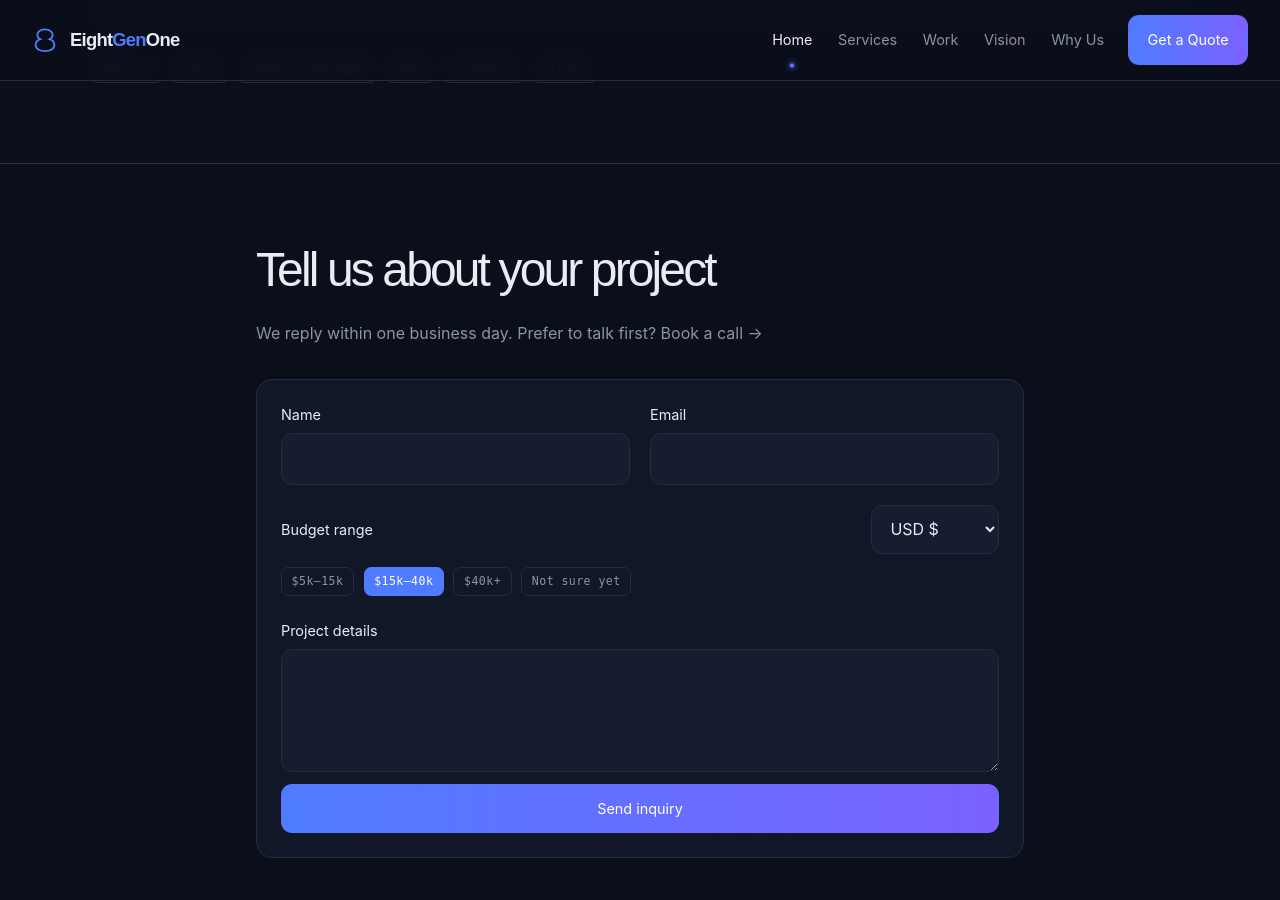
Test: EightGen1 landing page › submits the contact form and shows success state
(page scrolled)
Type "Ava Taylor" into the field labelled "Name". click: coordinates (456, 459)
box: [281, 433, 630, 485]
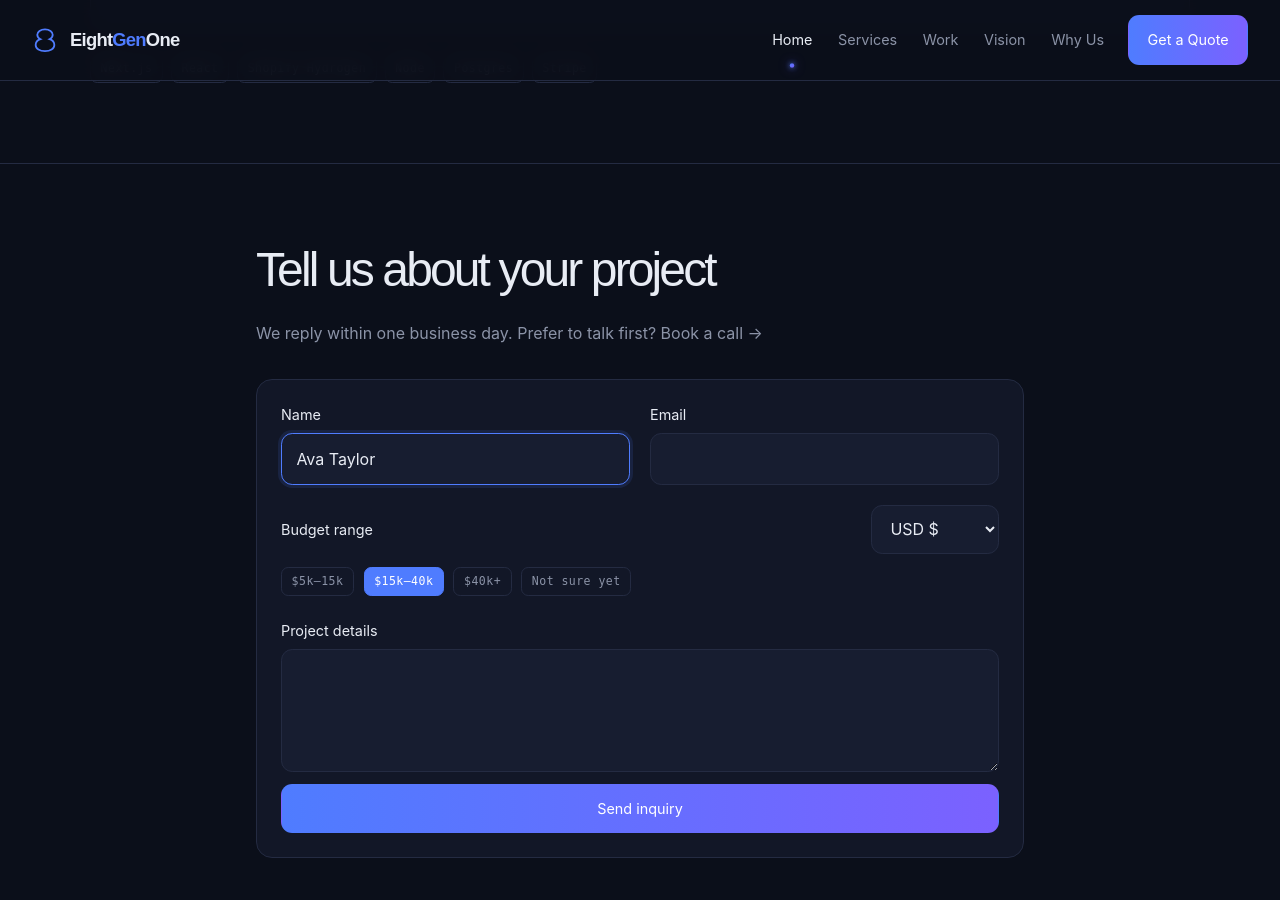
Type "ava@example.com" into the field labelled "Email". click: coordinates (824, 459)
box: [650, 433, 999, 485]
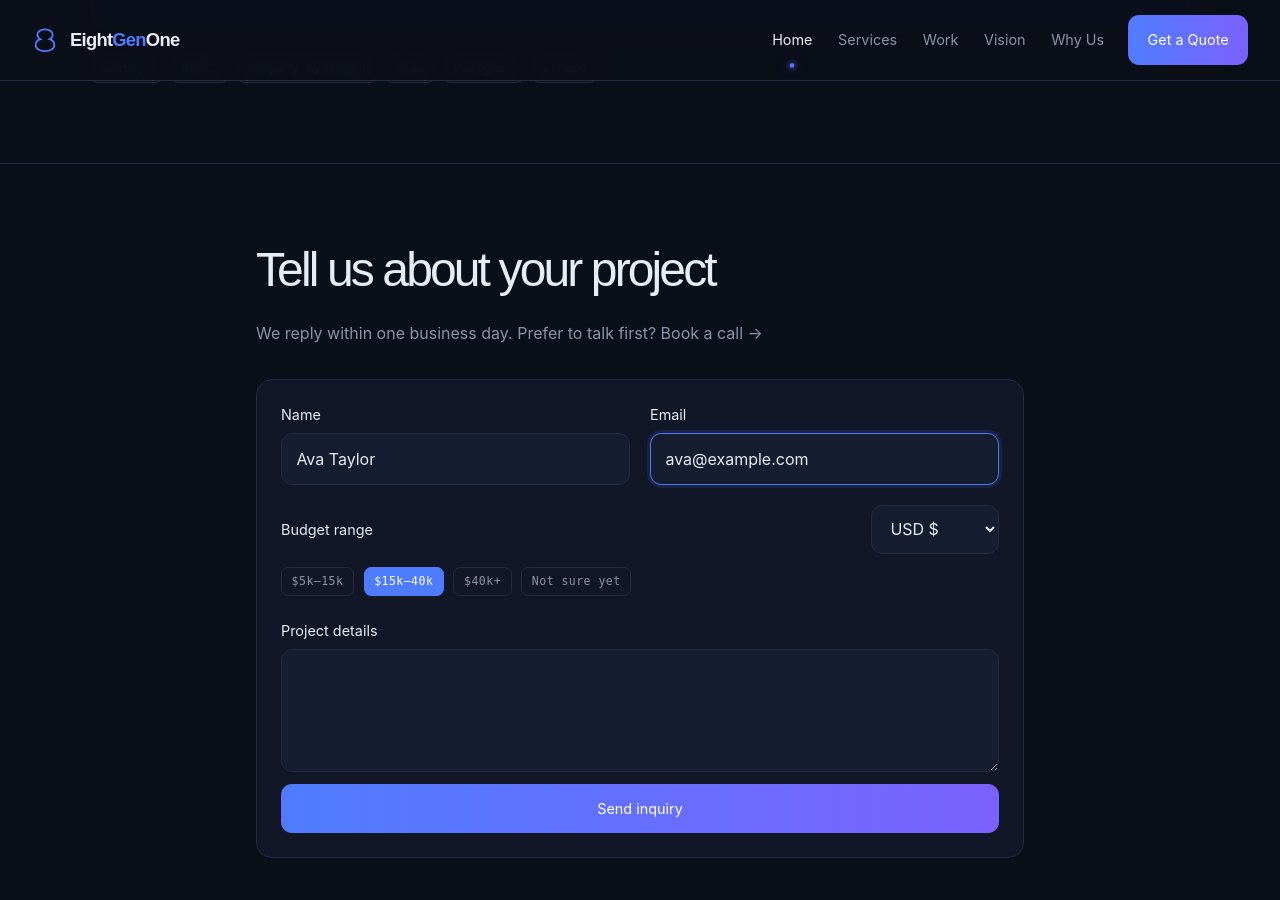
Type "Need a premium storefront for a new DTC brand." into the text box labelled "Project details". click: coordinates (640, 710)
box: [281, 648, 999, 772]
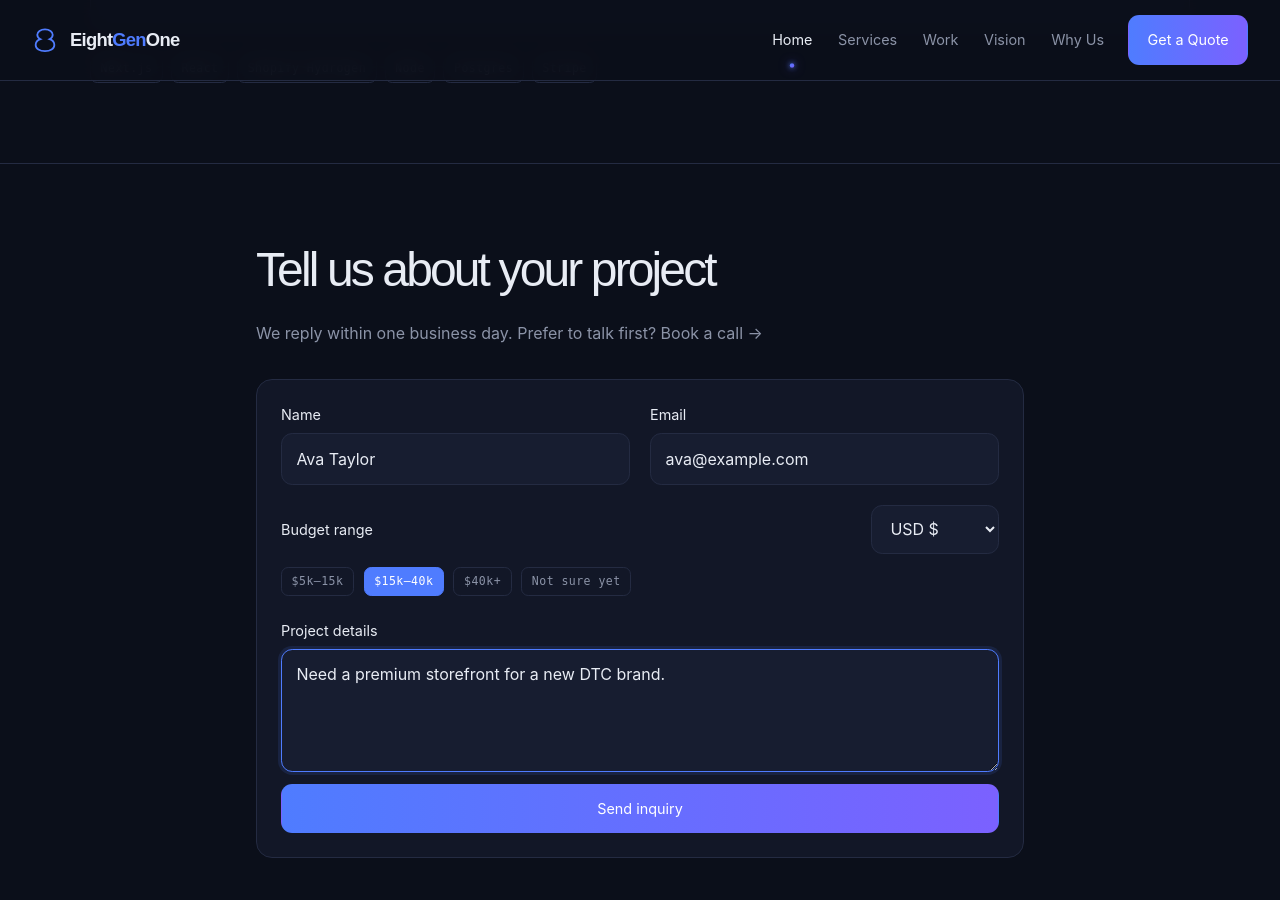
Click the button "Send inquiry". click: coordinates (640, 809)
box: [281, 784, 999, 833]
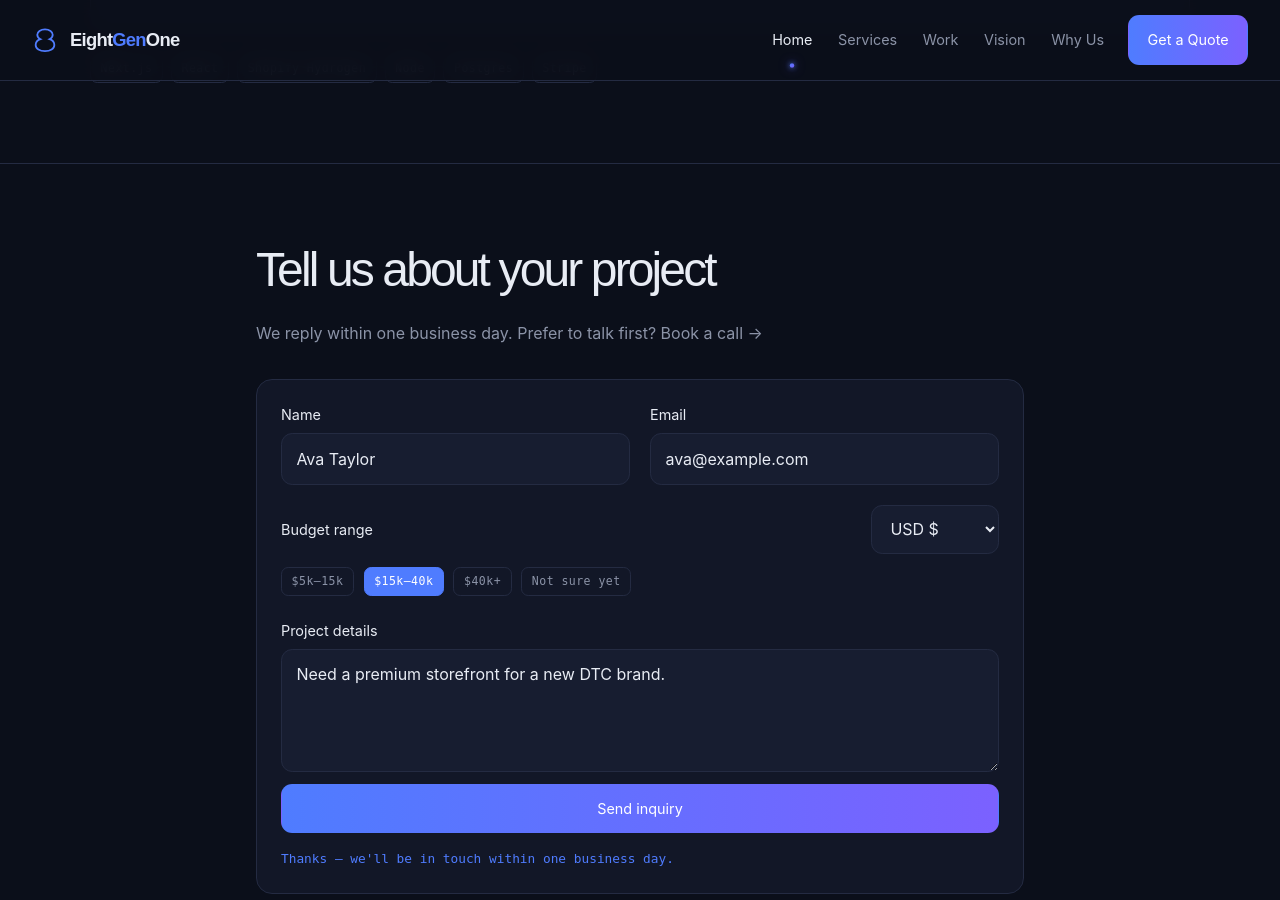
Expected: the message shows "Thanks — we'll be in touch within one business day", [281, 851, 674, 866]
